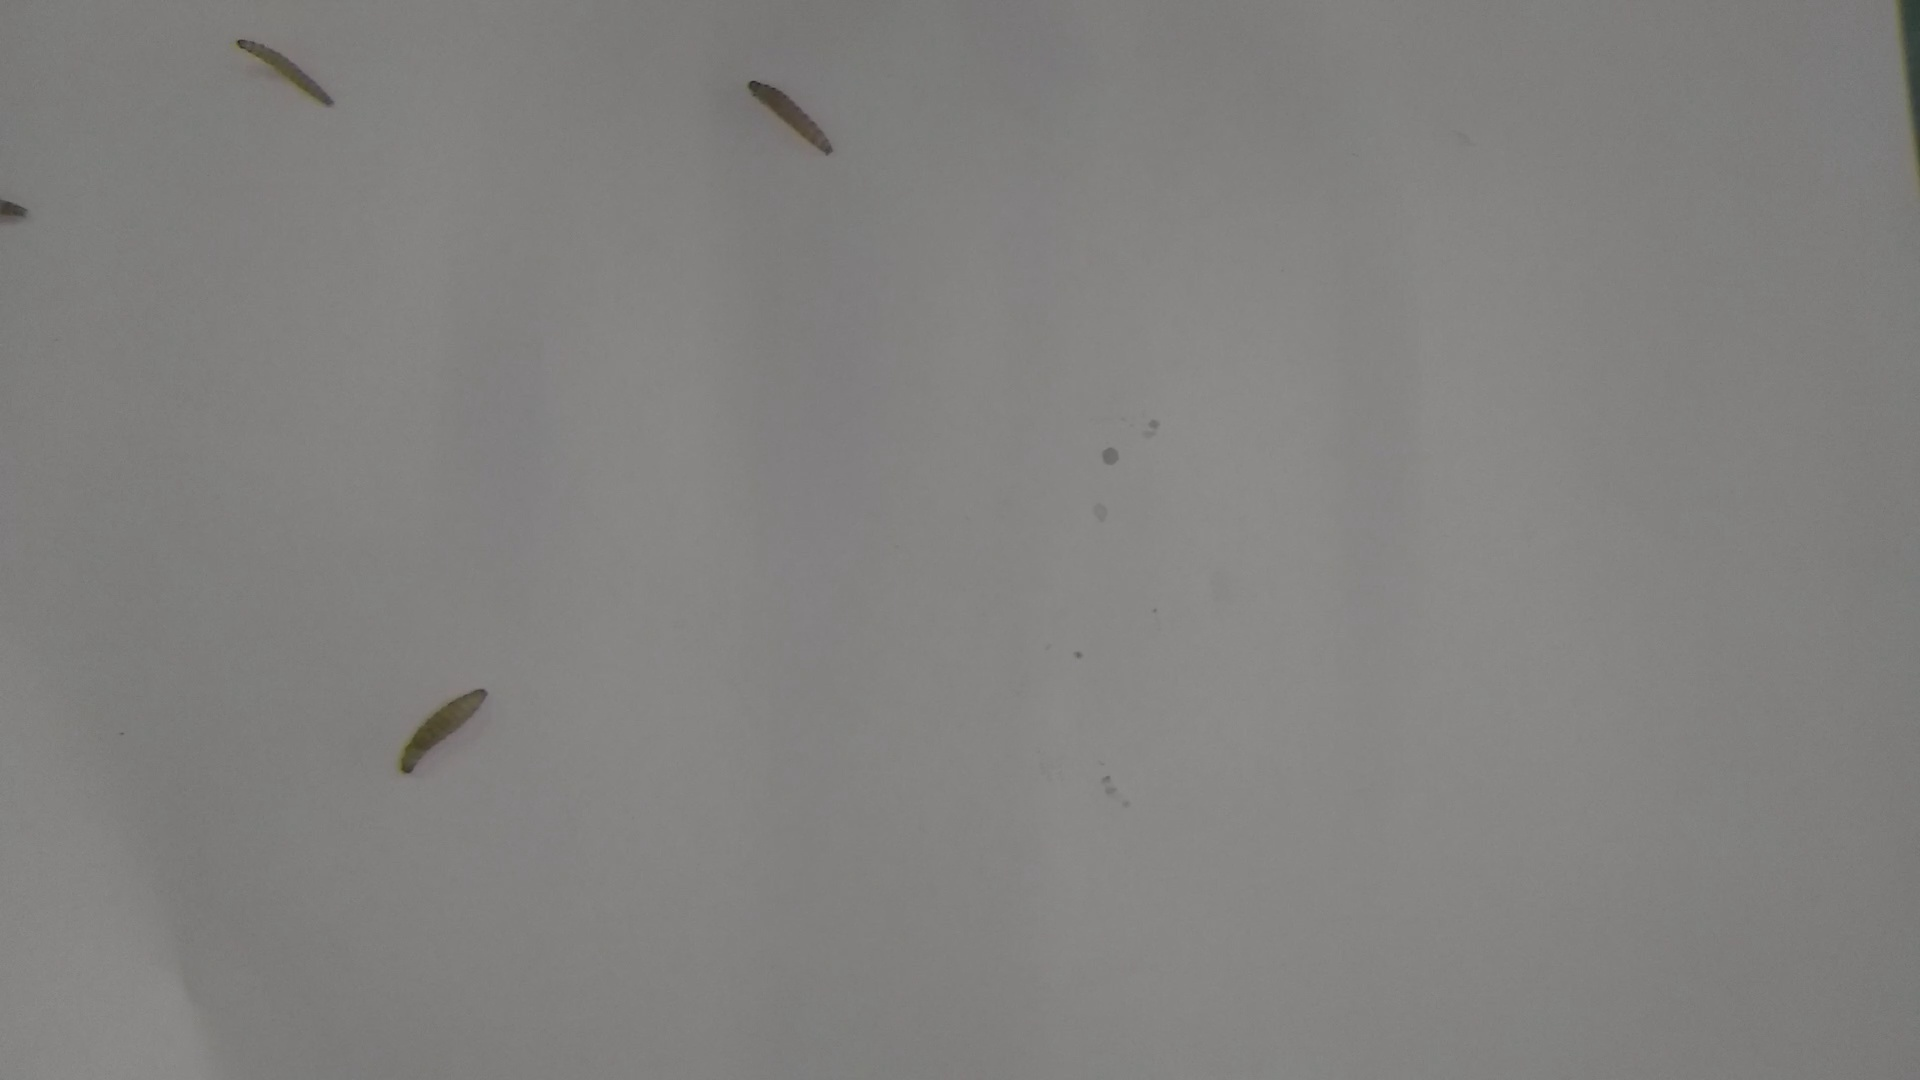efsb: (393, 680, 495, 791), (228, 32, 342, 120), (742, 76, 843, 162)
